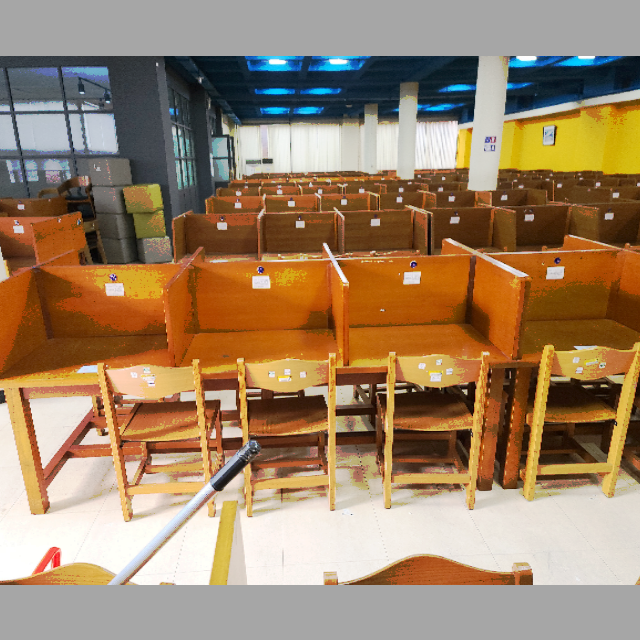empty: (348, 235, 517, 435), (1, 250, 172, 447), (176, 248, 346, 439)
